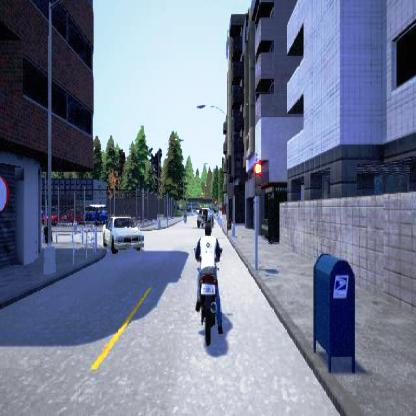motobike: (192, 224, 224, 346)
vehicle: (102, 213, 144, 253), (196, 206, 213, 226)
